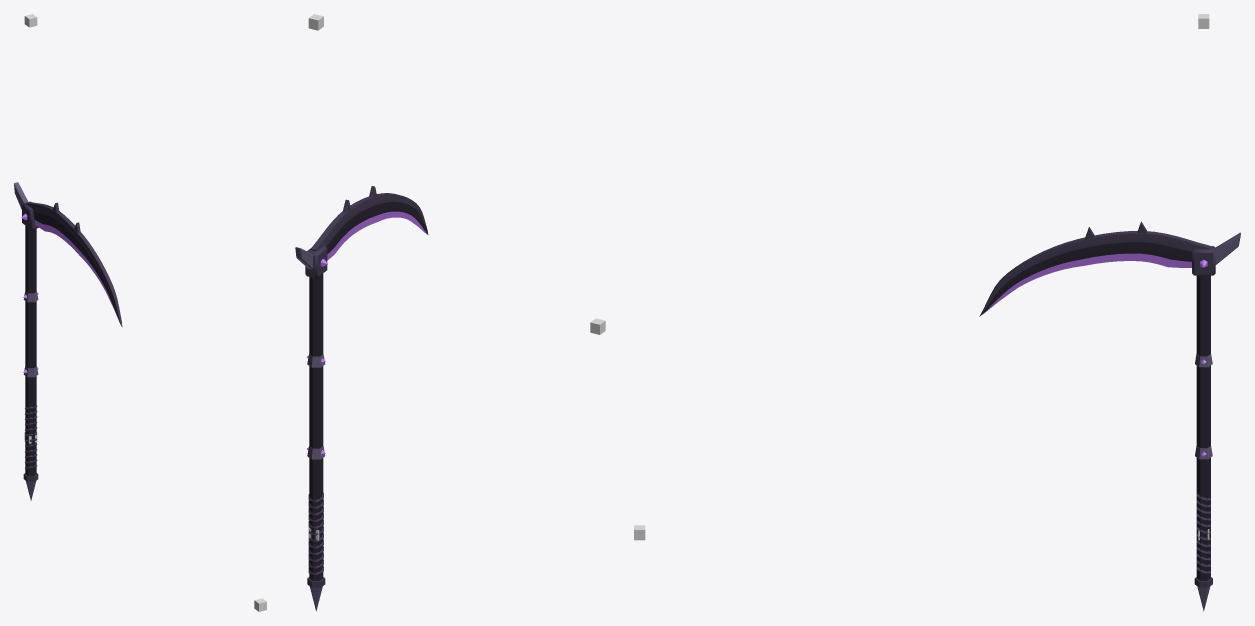
Rendered from VexScythe.fbx.
3 views of the same model, side by side, from view 1: azimuth 30°, elevation 25°; view 2: azimuth 150°, elevation 25°; view 3: azimuth 270°, elevation 25° (orthographic). The views are drawn at different scales.
Parts seen in each view (by area): view 1: Body, Glow; view 2: Body, Glow; view 3: Body, Glow.
Boxes of the visible parts, <box> form: Body: <box>14,182,122,500</box>; Glow: <box>21,213,117,373</box>; Body: <box>295,186,428,611</box>; Glow: <box>307,211,427,455</box>; Body: <box>979,221,1240,611</box>; Glow: <box>981,253,1207,456</box>.
Size of the model in its own units: 0.5 by 11.65 by 10.76.
1 material, 1 textured.
